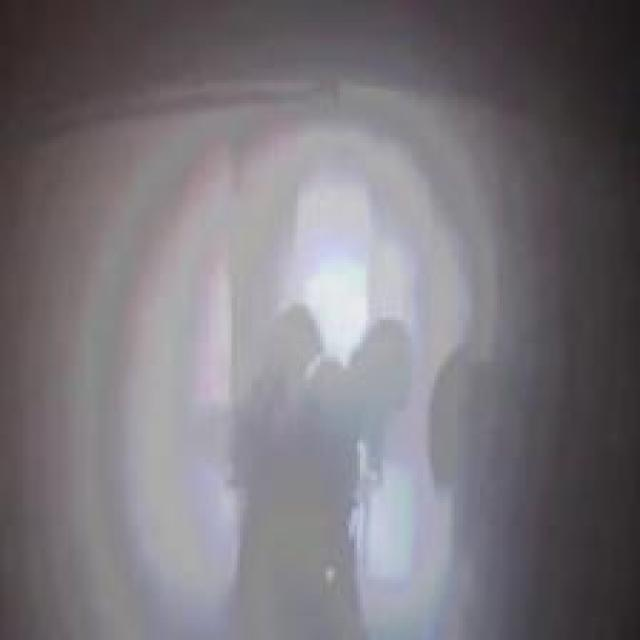fire: (162, 162, 558, 594)
